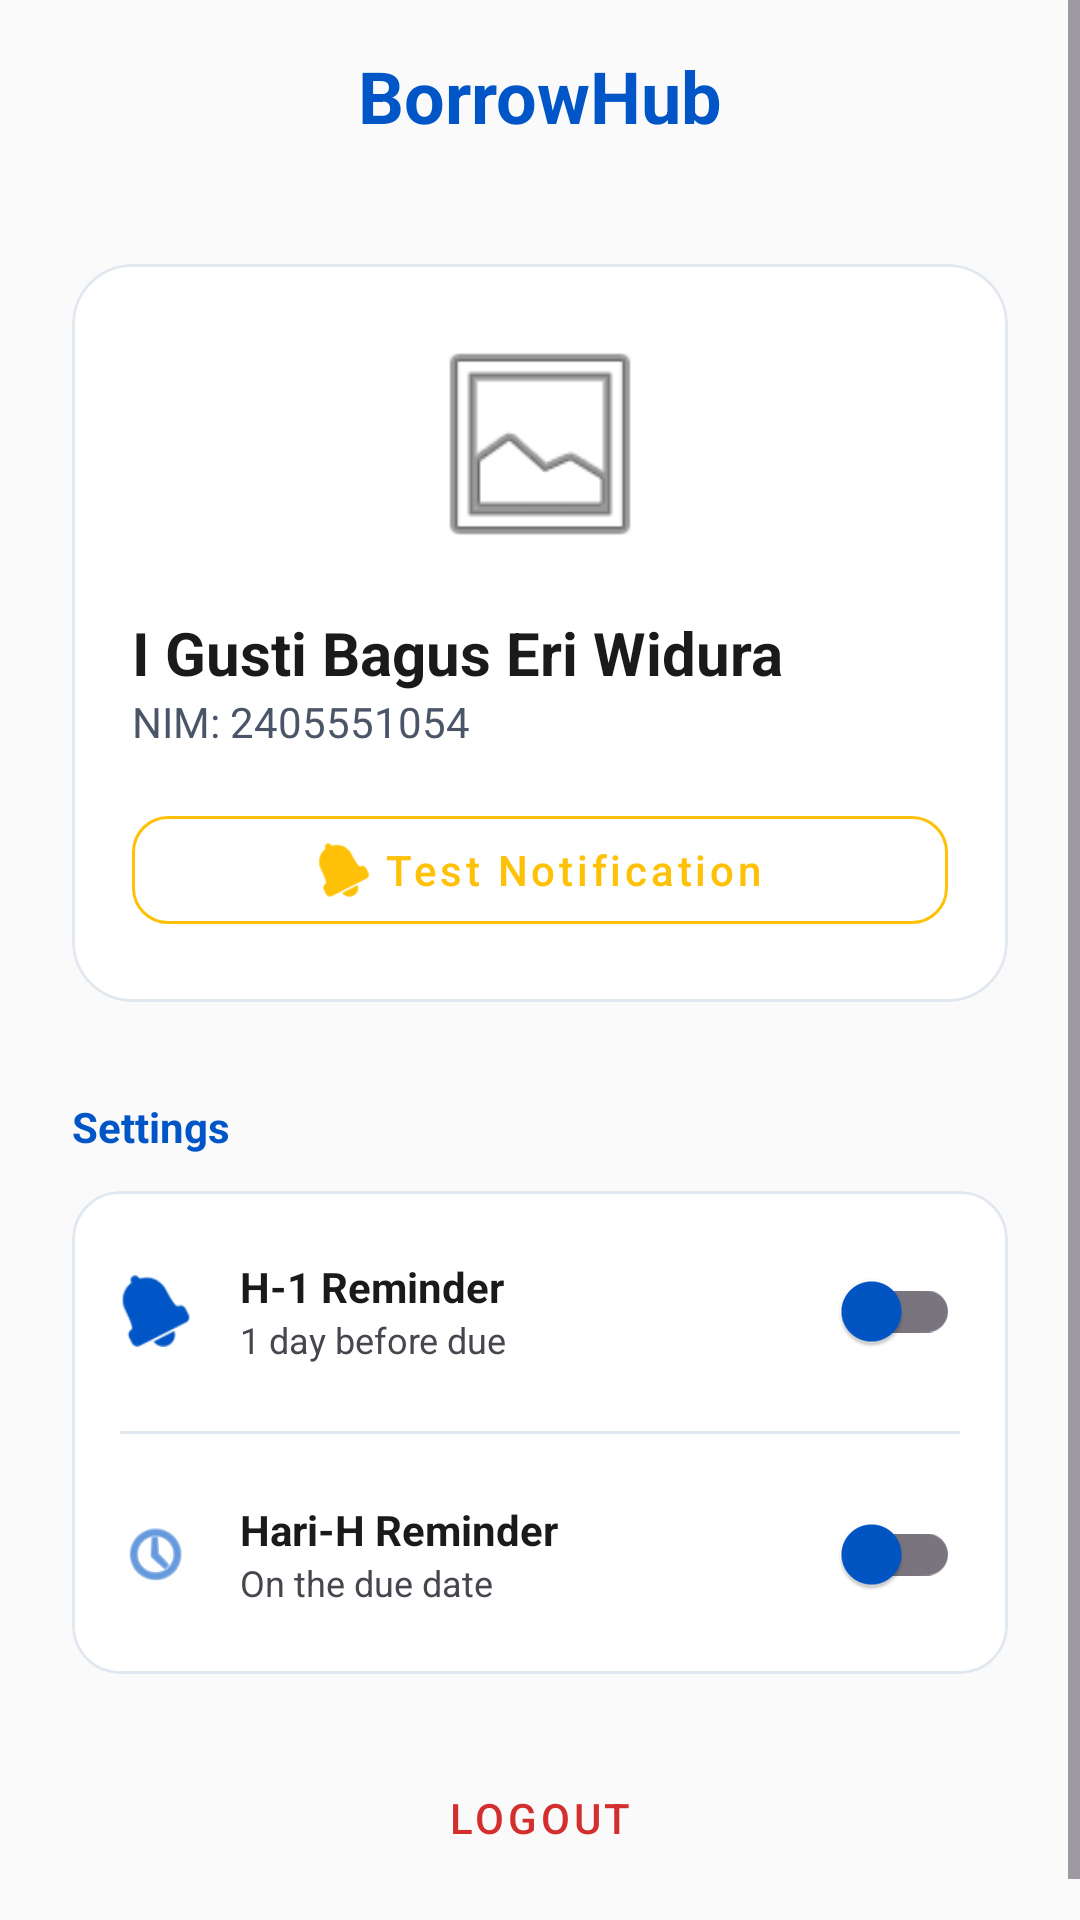

Where to tap for icons on this 1080×1920 app screen, as [x,y]:
gallery: [540,444]
popup reminder: [156,1311]
recent history: [155,1554]
